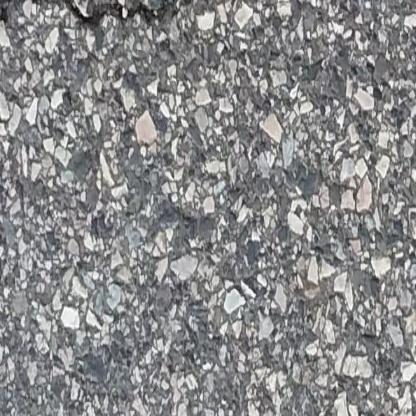Cracks: (0, 0, 207, 42)
